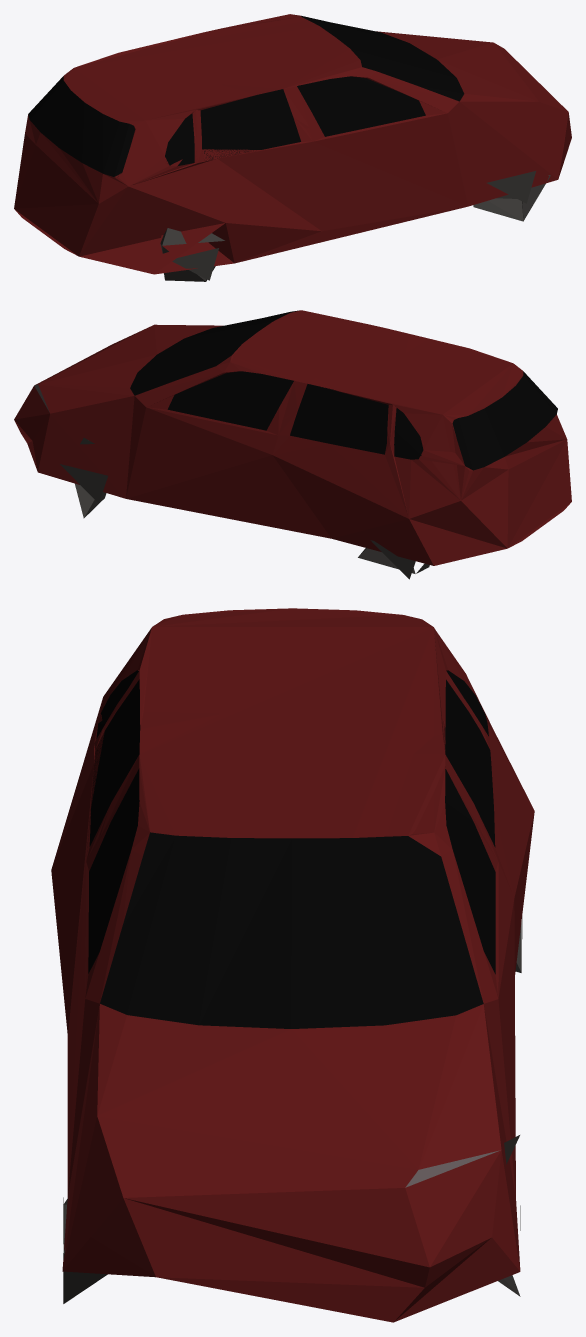
The model's file is pc-hatchback-red.lod2.glb.
3 views of the same model, one above another, from view 1: azimuth 30°, elevation 25°; view 2: azimuth 150°, elevation 25°; view 3: azimuth 270°, elevation 25° (orthographic). The views are drawn at different scales.
Visible parts, largest first — view 1: Hatchback Body_Body_0; view 2: Hatchback Body_Body_0; view 3: Hatchback Body_Body_0.
Boxes of the visible parts, bbox=[...] form: Hatchback Body_Body_0: bbox=[14, 14, 571, 281]; Hatchback Body_Body_0: bbox=[14, 310, 571, 579]; Hatchback Body_Body_0: bbox=[51, 608, 534, 1322].
Size of the model in its own units: 3.82 by 1.27 by 1.62.
